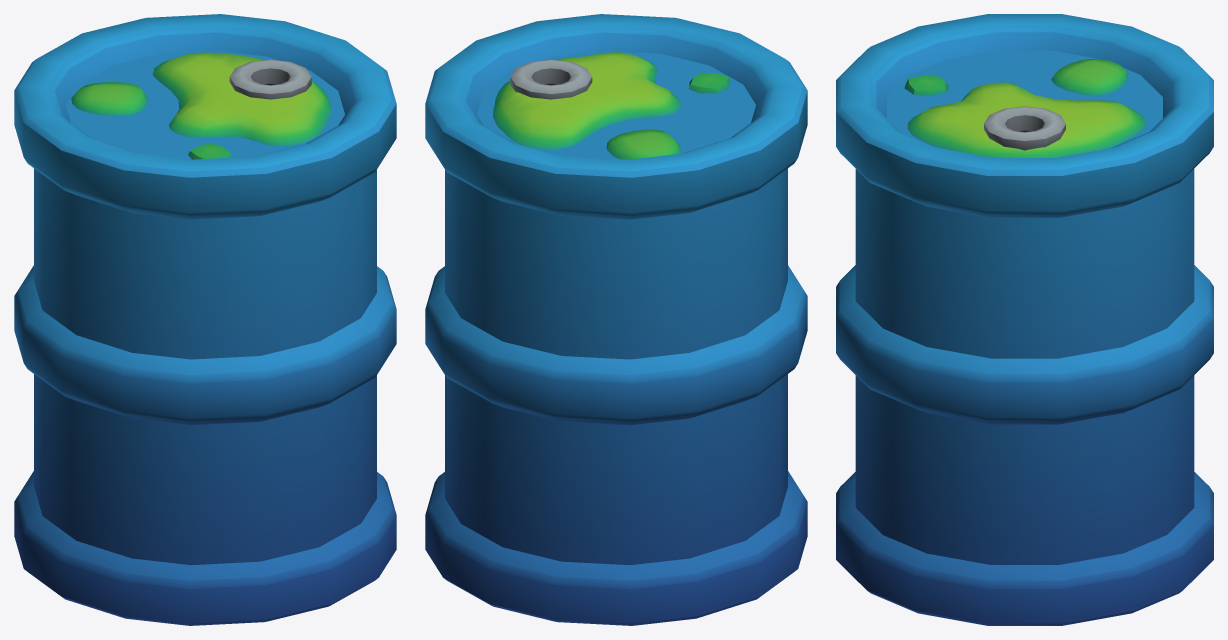
File: fuel_c_barrel_dirty.glb
3 views of the same model, side by side, from view 1: azimuth 30°, elevation 25°; view 2: azimuth 150°, elevation 25°; view 3: azimuth 270°, elevation 25° (orthographic).
Parts seen in each view (by area): view 1: Fuel_C_Barrel_Dirty; view 2: Fuel_C_Barrel_Dirty; view 3: Fuel_C_Barrel_Dirty.
Part boxes in pixels (box(x1,y1,x2,y2)): Fuel_C_Barrel_Dirty: box(14, 14, 396, 625); Fuel_C_Barrel_Dirty: box(425, 14, 807, 625); Fuel_C_Barrel_Dirty: box(836, 14, 1213, 625).
Bounding box in the file's own units: 0.45 × 0.6045 × 0.45.
1 material, 1 textured.
